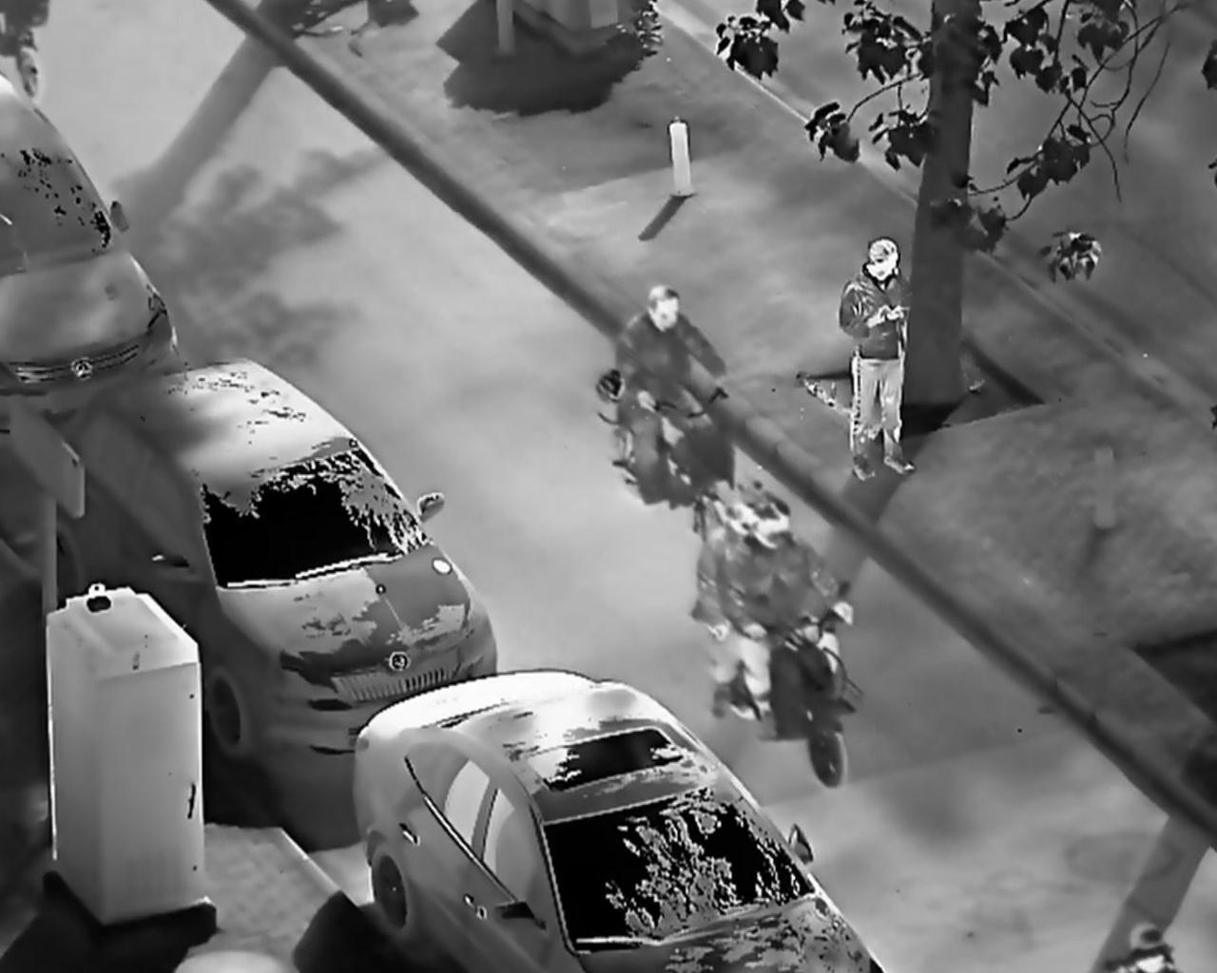person: (719, 490, 855, 718), (614, 284, 736, 503), (839, 235, 923, 484)
